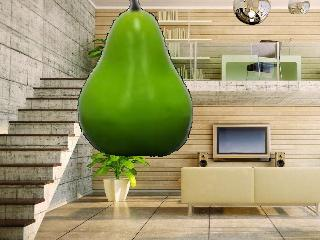pear: (77, 0, 192, 157)
